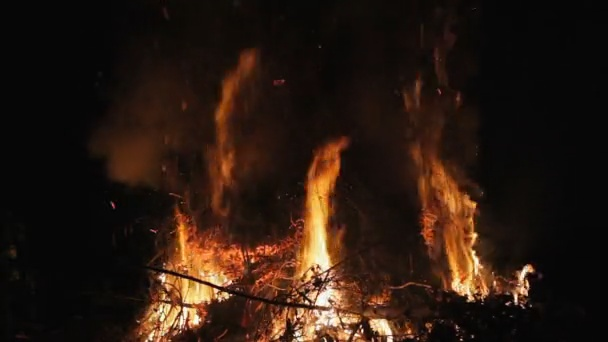fire: (274, 143, 346, 342), (139, 225, 237, 340), (421, 157, 479, 298), (214, 76, 233, 204), (370, 319, 391, 342), (515, 263, 529, 297)
